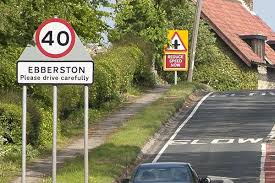sp40: (34, 16, 80, 55)
